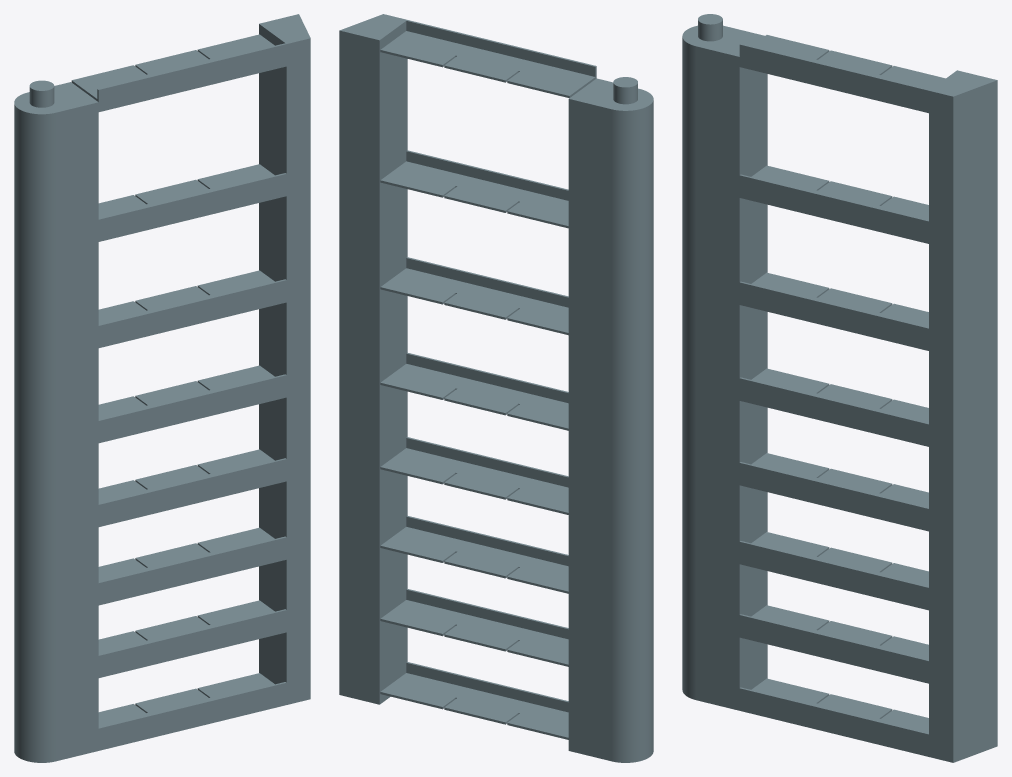
Rendered from step_03.glb.
3 renders of one model, left to right at view 1: azimuth 30°, elevation 25°; view 2: azimuth 150°, elevation 25°; view 3: azimuth 330°, elevation 25°, orthographic.
Visible parts, largest first — view 1: part__heel post, part__mitre post, part__girder 8, part__girder 6, part__girder 3, part__girder 1, part__girder 4, part__girder 5, part__girder 7, part__girder 2; view 2: part__heel post, part__mitre post, part__girder 8, part__girder 3, part__girder 5, part__girder 4, part__girder 6, part__girder 7, part__girder 2, part__girder 1; view 3: part__heel post, part__mitre post, part__girder 8, part__girder 1, part__girder 2, part__girder 5, part__girder 7, part__girder 4, part__girder 6, part__girder 3.
Boxes of the visible parts, x1,y1,x2,y2 form: part__heel post: (14,80,98,762); part__mitre post: (259,14,310,704); part__girder 8: (71,34,286,111); part__girder 6: (98,270,286,347); part__girder 3: (98,527,286,605); part__girder 1: (98,673,286,750); part__girder 4: (98,449,286,526); part__girder 5: (98,365,286,443); part__girder 7: (98,164,286,241); part__girder 2: (98,600,286,677); part__heel post: (568,77,653,762); part__mitre post: (339,14,407,704); part__girder 8: (380,20,596,98); part__girder 3: (380,515,568,593); part__girder 5: (380,352,568,430); part__girder 4: (380,437,568,514); part__girder 6: (380,257,568,335); part__girder 7: (380,150,568,228); part__girder 2: (380,589,568,666); part__girder 1: (380,662,568,739); part__heel post: (682,14,767,710); part__mitre post: (929,70,997,762); part__girder 8: (739,35,945,113); part__girder 1: (739,678,928,756); part__girder 2: (739,605,928,683); part__girder 5: (739,368,928,446); part__girder 7: (739,165,928,243); part__girder 4: (739,453,928,531); part__girder 6: (739,272,928,350); part__girder 3: (739,532,928,610).
Bounding box in the file's own units: 2760 × 5950 × 450.
